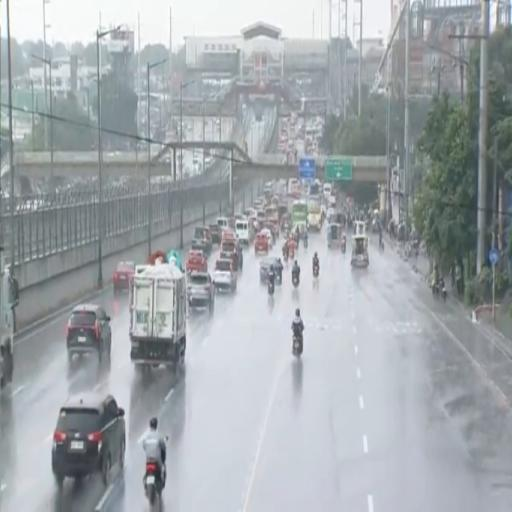bus: (291, 201, 308, 229), (265, 204, 278, 221)
car: (52, 392, 125, 486), (67, 304, 111, 360), (188, 271, 214, 311), (213, 259, 236, 292), (113, 262, 135, 294), (221, 240, 242, 271), (192, 227, 212, 255), (260, 257, 278, 284), (186, 250, 207, 271), (236, 219, 251, 245), (254, 232, 269, 253), (209, 224, 221, 245), (261, 228, 273, 248), (222, 229, 236, 243)
motorcycle: (143, 460, 163, 508), (144, 461, 163, 506), (432, 280, 447, 301), (292, 333, 303, 357), (312, 264, 319, 278), (276, 269, 282, 285), (292, 274, 299, 287), (268, 280, 274, 295), (289, 244, 294, 259), (283, 248, 288, 262), (341, 239, 345, 253), (303, 237, 308, 248)
truck: (130, 259, 187, 367), (0, 240, 19, 388), (291, 201, 307, 230), (308, 199, 321, 231)
